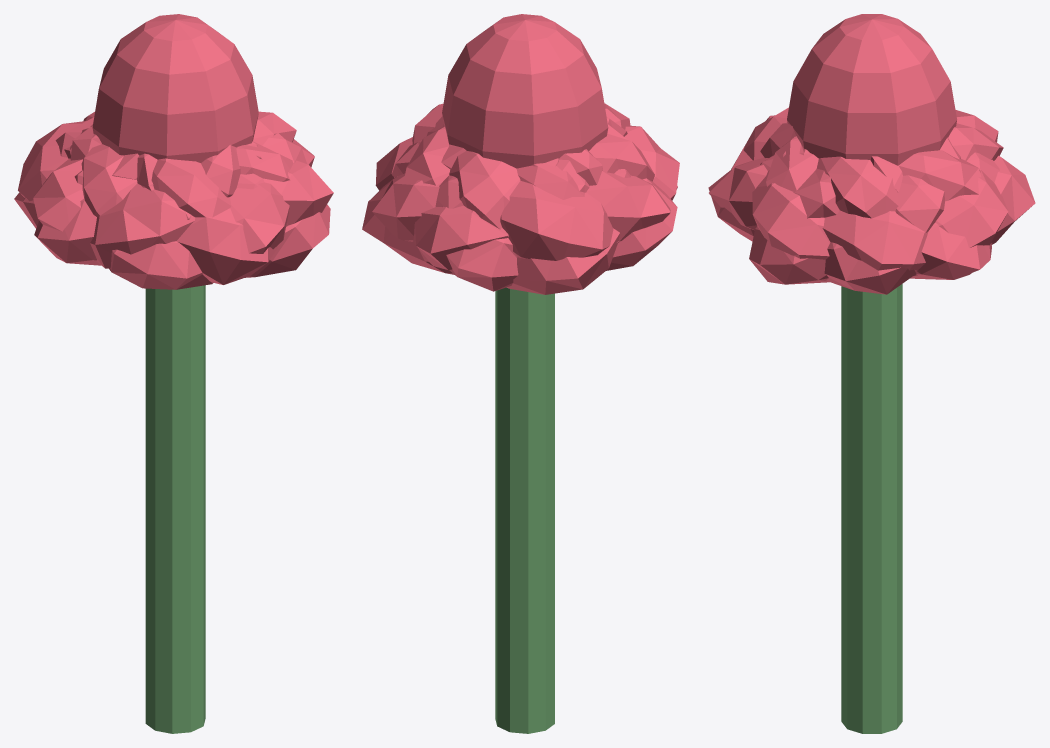
Rendered from flower_rose.glb.
3 renders of one model, left to right at view 1: azimuth 30°, elevation 25°; view 2: azimuth 150°, elevation 25°; view 3: azimuth 270°, elevation 25°, orthographic.
Visible parts, largest first — view 1: flower_rose; view 2: flower_rose; view 3: flower_rose.
Part boxes in pixels (<box>): flower_rose: <box>14,14,333,733</box>; flower_rose: <box>362,14,679,733</box>; flower_rose: <box>708,14,1035,733</box>.
Size of the model in its own units: 1.94 by 4.55 by 1.92.
